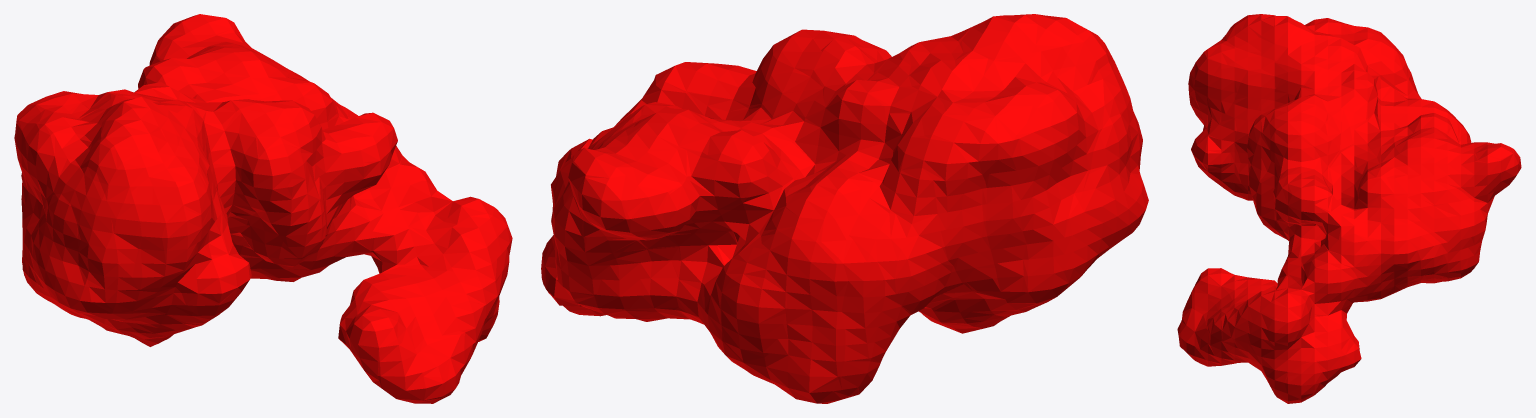
File: prfA_coarse.dae
3 views of the same model, side by side, from view 1: azimuth 30°, elevation 25°; view 2: azimuth 150°, elevation 25°; view 3: azimuth 270°, elevation 25° (orthographic). The views are drawn at different scales.
Parts seen in each view (by area): view 1: prfA; view 2: prfA; view 3: prfA.
Boxes of the visible parts, box(x1,y1,x2,y2) form: prfA: box(14, 14, 512, 403); prfA: box(541, 14, 1148, 403); prfA: box(1177, 14, 1521, 403).
Bounding box in the file's own units: 94.79 × 63.04 × 77.38.
